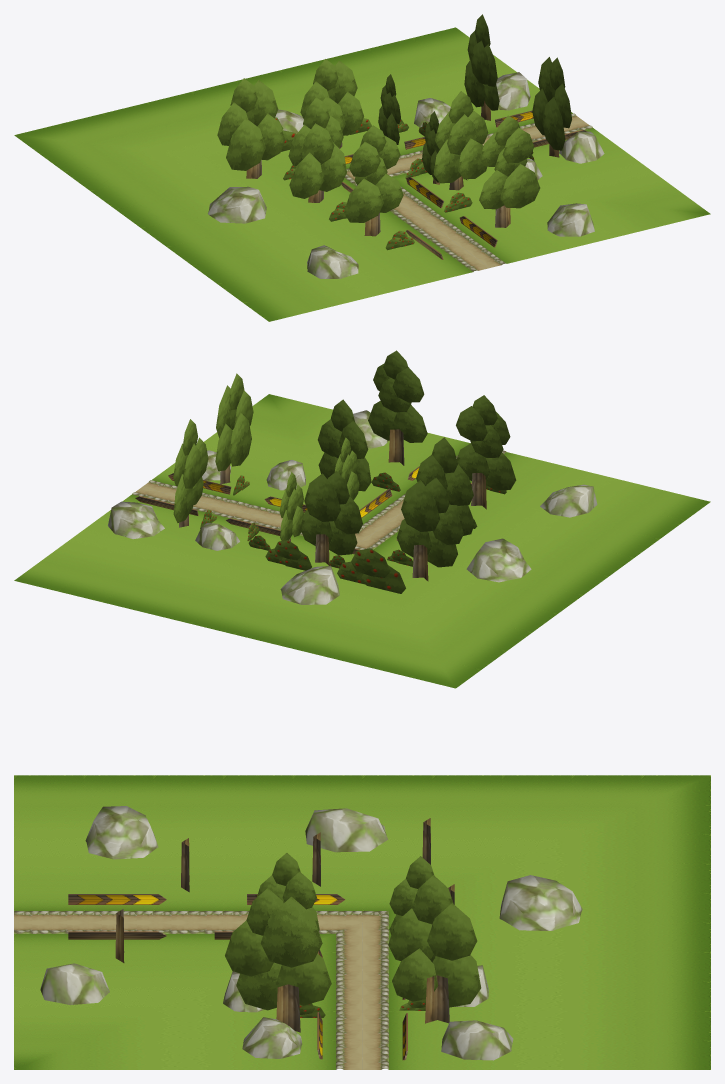
File: ForestRoad01_Right.FBX
3 renders of one model, top to bottom at view 1: azimuth 30°, elevation 25°; view 2: azimuth 150°, elevation 25°; view 3: azimuth 270°, elevation 25°, orthographic. The views are drawn at different scales.
Parts seen in each view (by area): view 1: Road, Tree (×10), Stone (×6); view 2: Road, Tree (×10), Stone (×7), Bush (×2); view 3: Road, Tree (×4), Stone (×7), Fence (×2).
Boxes of the visible parts, x1,y1,x2,y2 form: Road: (14, 27, 710, 321); Tree (×10): (217, 14, 571, 236); Stone (×6): (208, 72, 604, 278); Road: (14, 394, 710, 688); Tree (×10): (173, 350, 516, 581); Stone (×7): (108, 410, 597, 604); Bush (×2): (265, 540, 405, 593); Road: (14, 775, 710, 1069); Tree (×4): (225, 853, 481, 1032); Stone (×7): (40, 806, 582, 1060); Fence (×2): (68, 894, 166, 939).
Size of the model in its own units: 10000 by 2536 by 10000.
